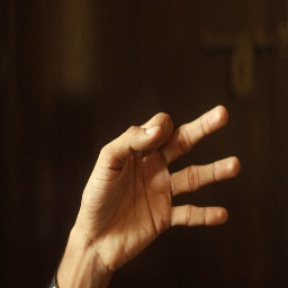K: (81, 104, 244, 250)
